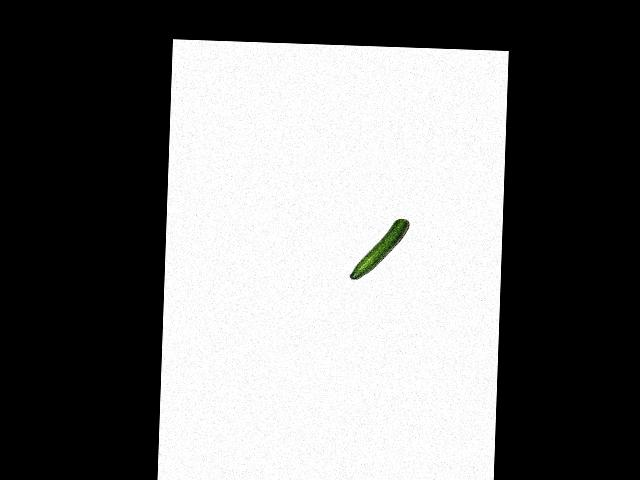cucumber: (349, 216, 409, 281)
